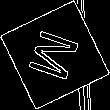M_E: (23, 25, 87, 85)
